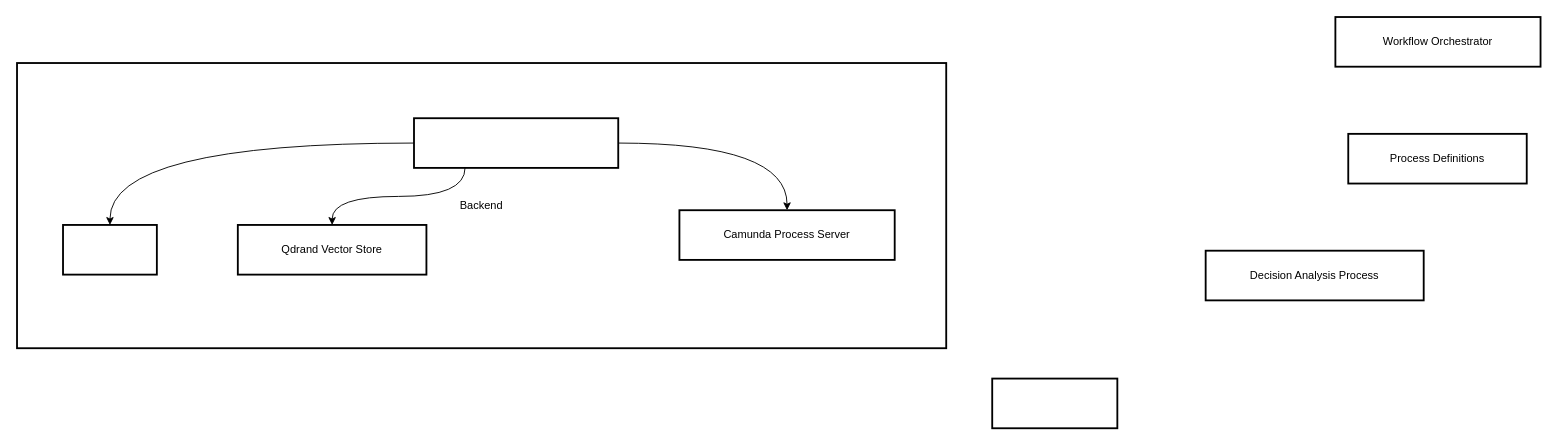
Some shapes in this 1557 by 444 pixel diagram are drawn without their labels. The centre of each missing label's shape, as x and y in pixels:
Analysis ID: (x=1054, y=403)
Docker Compose Stack: (x=516, y=142)
Neo4j: (x=109, y=249)
